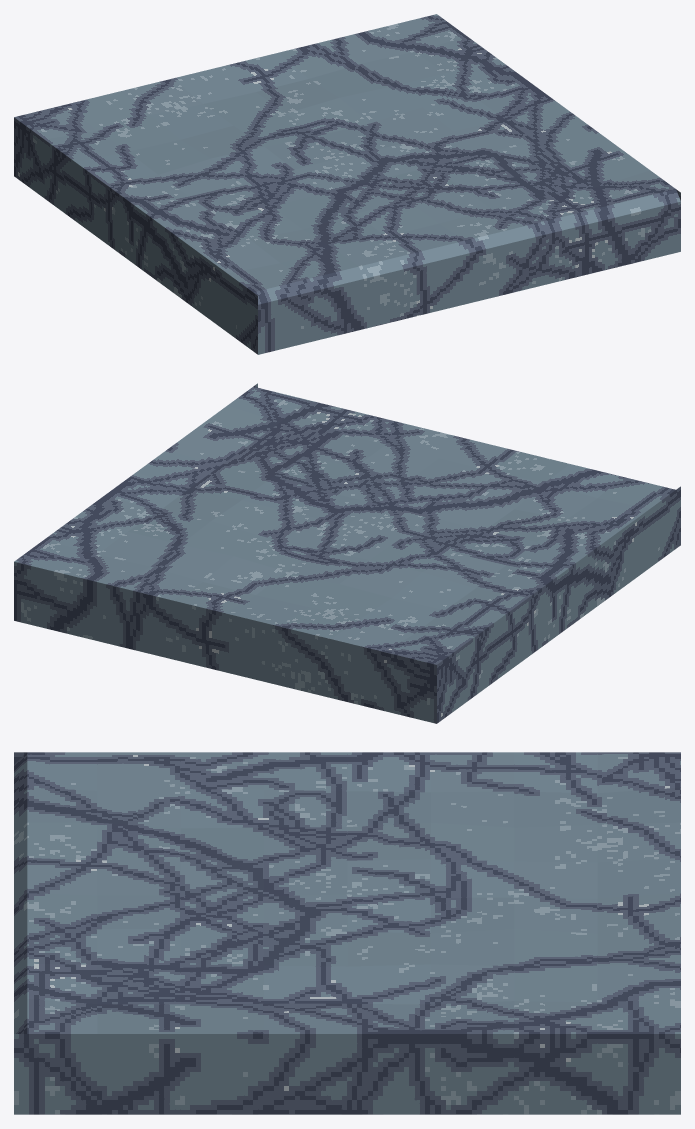
Rendered from TER-02_Losa_recta_b.gltf.
3 views of the same model, one above another, from view 1: azimuth 30°, elevation 25°; view 2: azimuth 150°, elevation 25°; view 3: azimuth 270°, elevation 25° (orthographic). The views are drawn at different scales.
Visible parts, largest first — view 1: TER-02_Losa_recta_b-col; view 2: TER-02_Losa_recta_b-col; view 3: TER-02_Losa_recta_b-col.
Boxes of the visible parts, <box> form: TER-02_Losa_recta_b-col: <box>14,14,680,354</box>; TER-02_Losa_recta_b-col: <box>14,383,680,723</box>; TER-02_Losa_recta_b-col: <box>14,752,680,1114</box>.
Bounding box in the file's own units: 3 × 0.4 × 3.
1 material, 1 textured.
